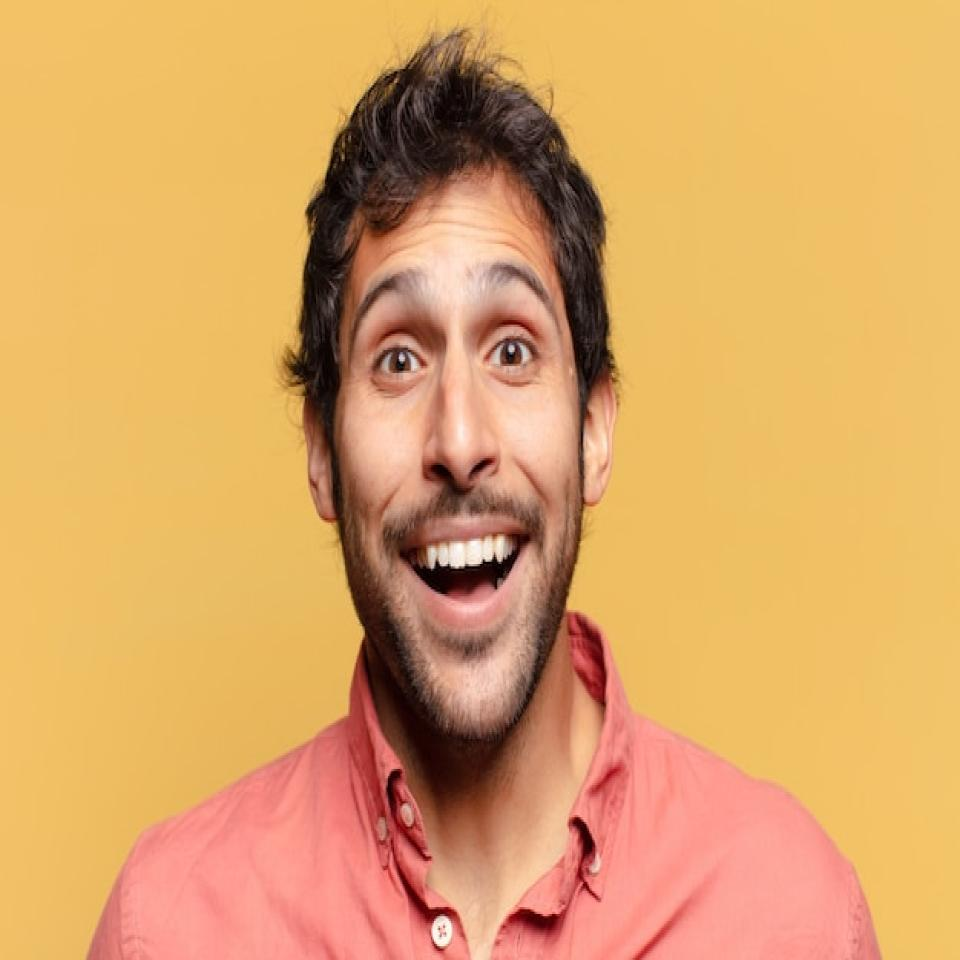Happiness: (308, 228, 614, 725)
